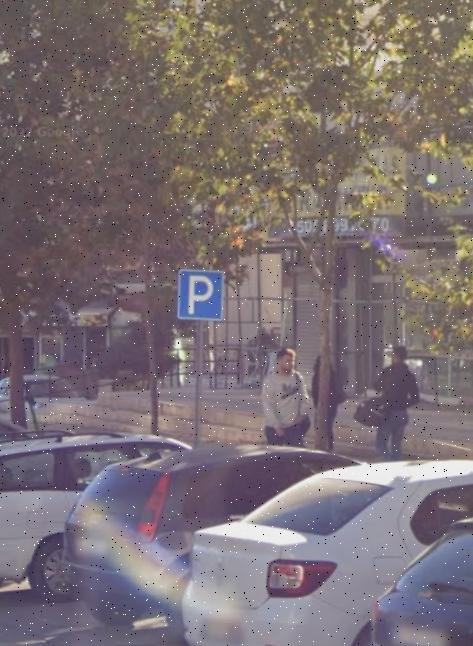park: (178, 269, 223, 321)
